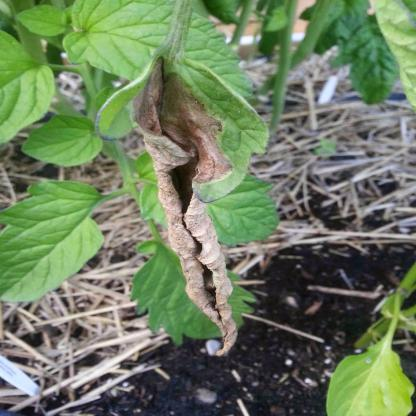Tomato leaf late blight: (105, 42, 267, 354)
